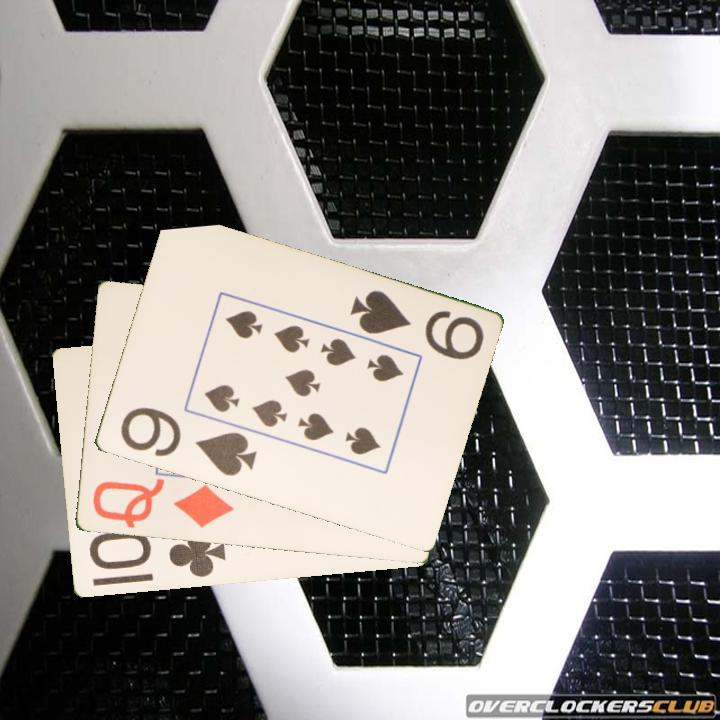10c: (85, 525, 228, 581)
9s: (116, 403, 260, 480), (346, 287, 487, 363)
Qd: (88, 476, 236, 532)
